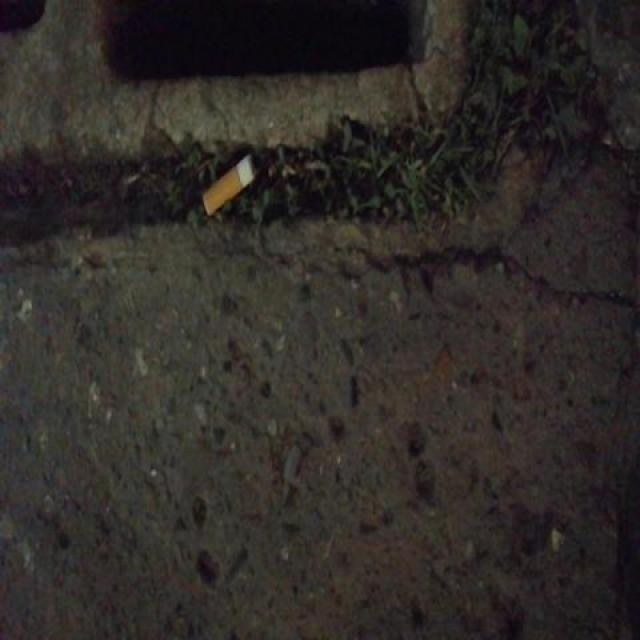non-organic waste: (200, 150, 264, 225)
